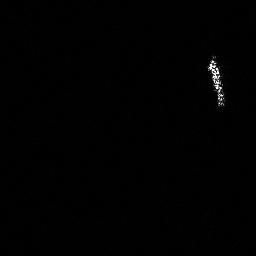ship: (202, 51, 229, 111)
